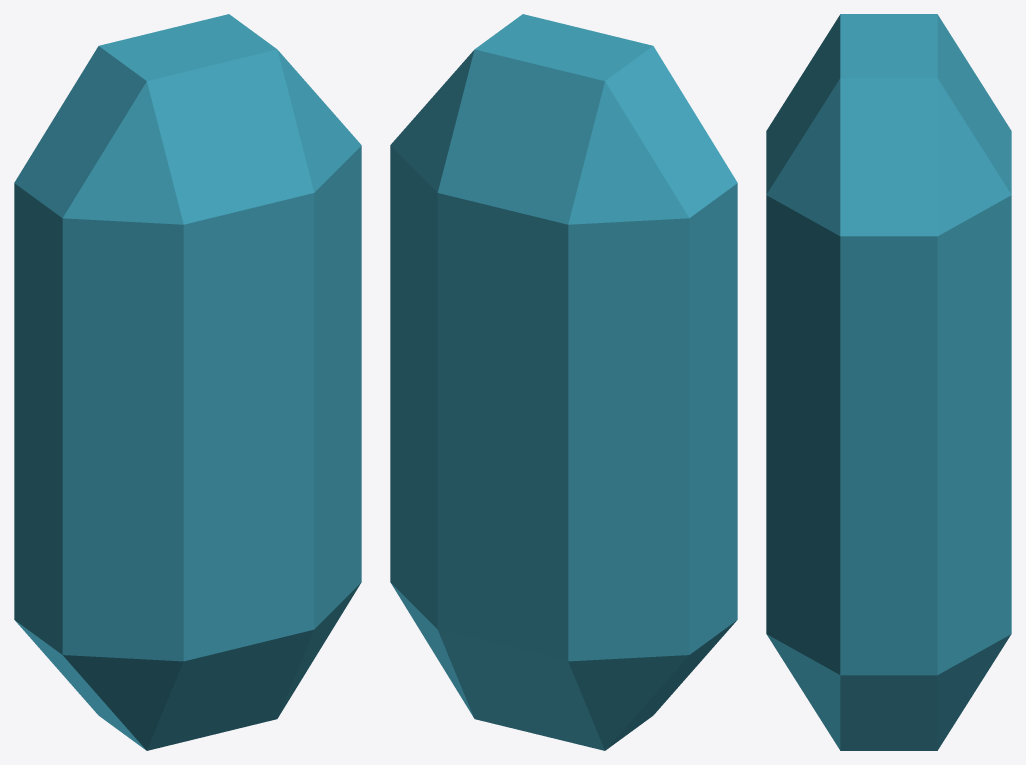
File: gem_blue.glb
3 views of the same model, side by side, from view 1: azimuth 30°, elevation 25°; view 2: azimuth 150°, elevation 25°; view 3: azimuth 270°, elevation 25° (orthographic).
Parts seen in each view (by area): view 1: Gem_Blue; view 2: Gem_Blue; view 3: Gem_Blue.
Part boxes in pixels (bbox=[...]): Gem_Blue: bbox=[14, 14, 361, 750]; Gem_Blue: bbox=[390, 14, 737, 750]; Gem_Blue: bbox=[766, 14, 1011, 750].
Bounding box in the file's own units: 0.9863 × 2.11 × 0.697.
